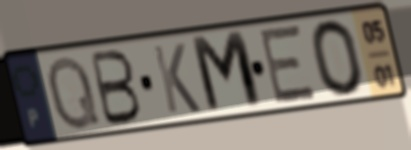B: (88, 47, 144, 129)
E: (257, 22, 319, 108)
K: (150, 40, 204, 116)
M: (187, 27, 268, 118)
O: (308, 17, 367, 100)
Q: (45, 52, 103, 133)
